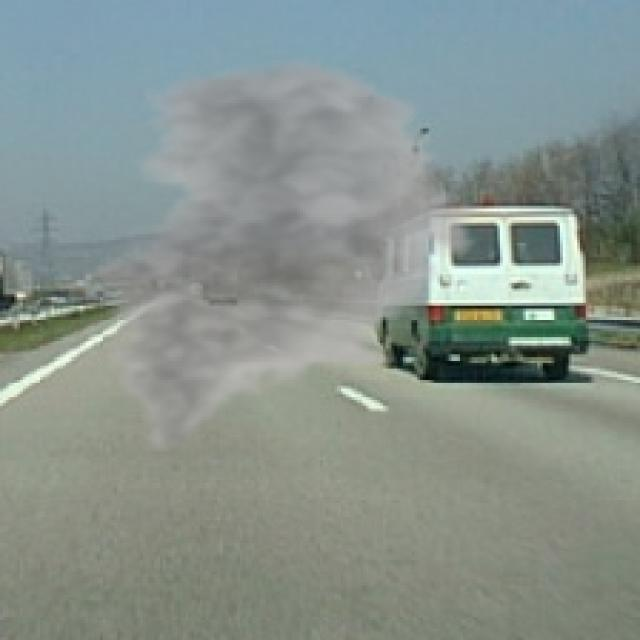smoke: (80, 54, 489, 457)
